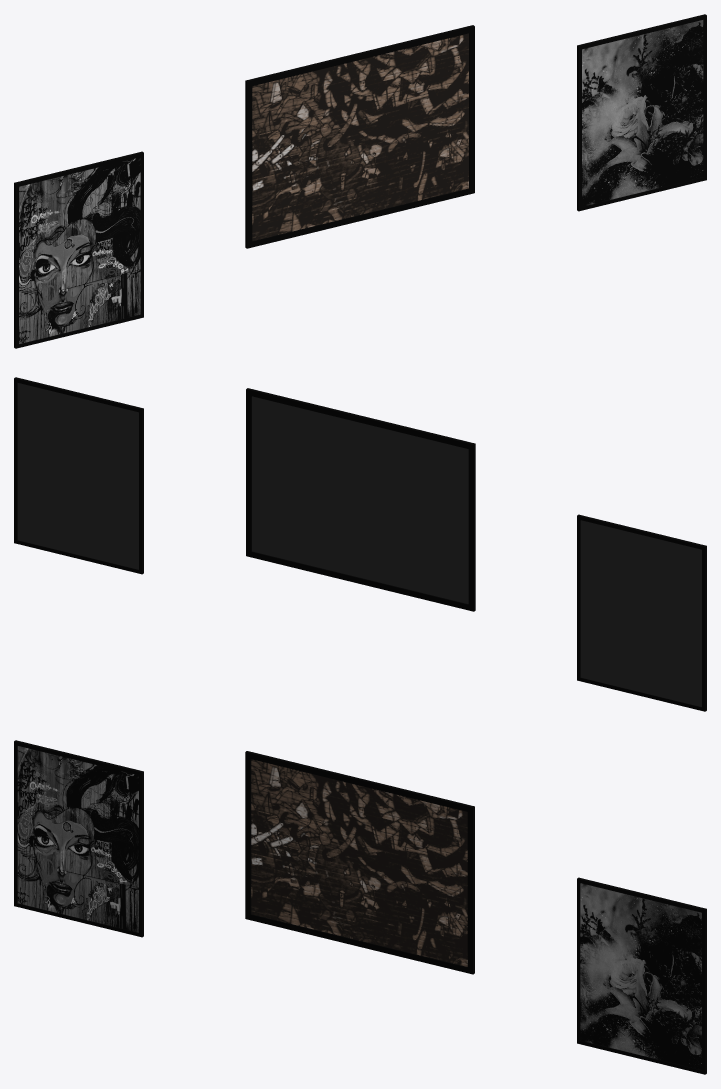
The picture shows the model from 3 angles, top to bottom: view 1: azimuth 30°, elevation 25°; view 2: azimuth 150°, elevation 25°; view 3: azimuth 330°, elevation 25°; orthographic projection.
Parts seen in each view (by area): view 1: Frame_Middle_Frames_Version_04_0, Frame_Left_Frames_Version_04_0, Frame_Right_Frames_Version_04_0; view 2: Frame_Middle_Frames_Version_04_0, Frame_Left_Frames_Version_04_0, Frame_Right_Frames_Version_04_0; view 3: Frame_Middle_Frames_Version_04_0, Frame_Left_Frames_Version_04_0, Frame_Right_Frames_Version_04_0.
Boxes of the visible parts, x1,y1,x2,y2 form: Frame_Middle_Frames_Version_04_0: (245, 25, 474, 248); Frame_Left_Frames_Version_04_0: (14, 151, 143, 348); Frame_Right_Frames_Version_04_0: (577, 14, 706, 211); Frame_Middle_Frames_Version_04_0: (246, 388, 475, 611); Frame_Left_Frames_Version_04_0: (577, 514, 706, 711); Frame_Right_Frames_Version_04_0: (14, 377, 143, 574); Frame_Middle_Frames_Version_04_0: (245, 751, 474, 974); Frame_Left_Frames_Version_04_0: (14, 740, 143, 937); Frame_Right_Frames_Version_04_0: (577, 877, 706, 1074).
Size of the model in its own units: 406 by 118 by 1.71.
1 material, 1 textured.
